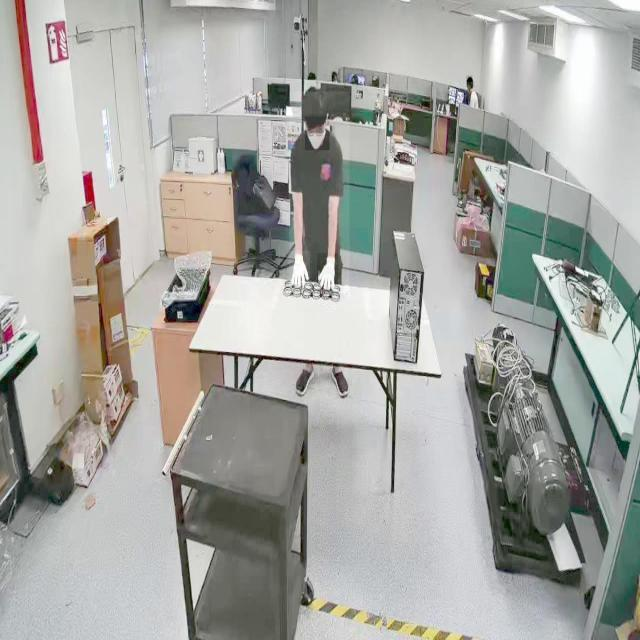face_mask: (305, 116, 329, 150)
hand_glove: (317, 253, 339, 300), (287, 251, 311, 293)
head_nohelmet: (302, 84, 327, 114), (466, 76, 473, 82)
person: (289, 92, 350, 294)
shoes: (326, 362, 350, 402), (295, 358, 317, 398)
